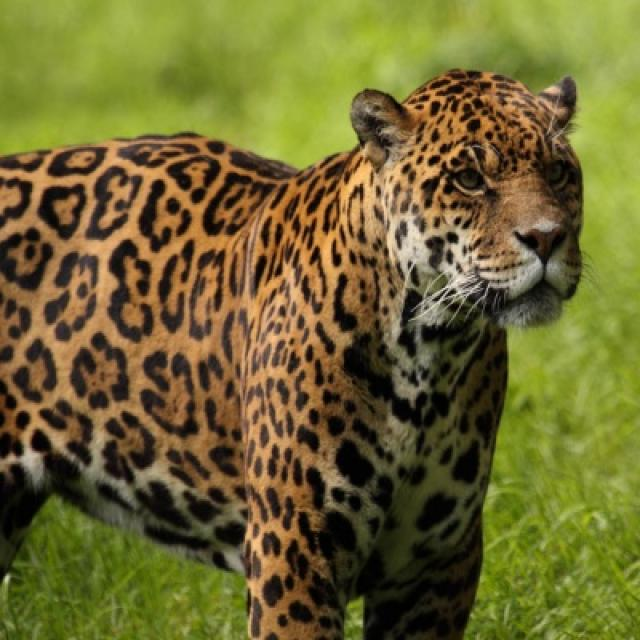Jaguar: (0, 69, 586, 638)
